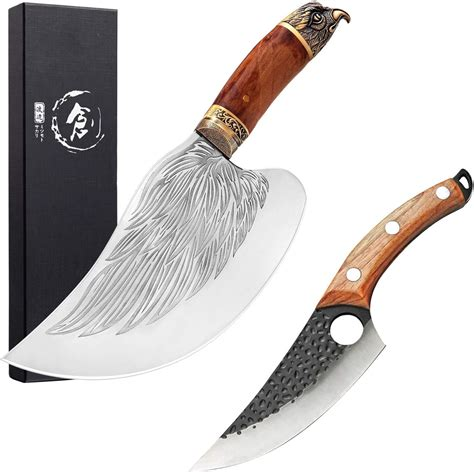knife: (1, 3, 350, 382), (190, 172, 467, 467)
